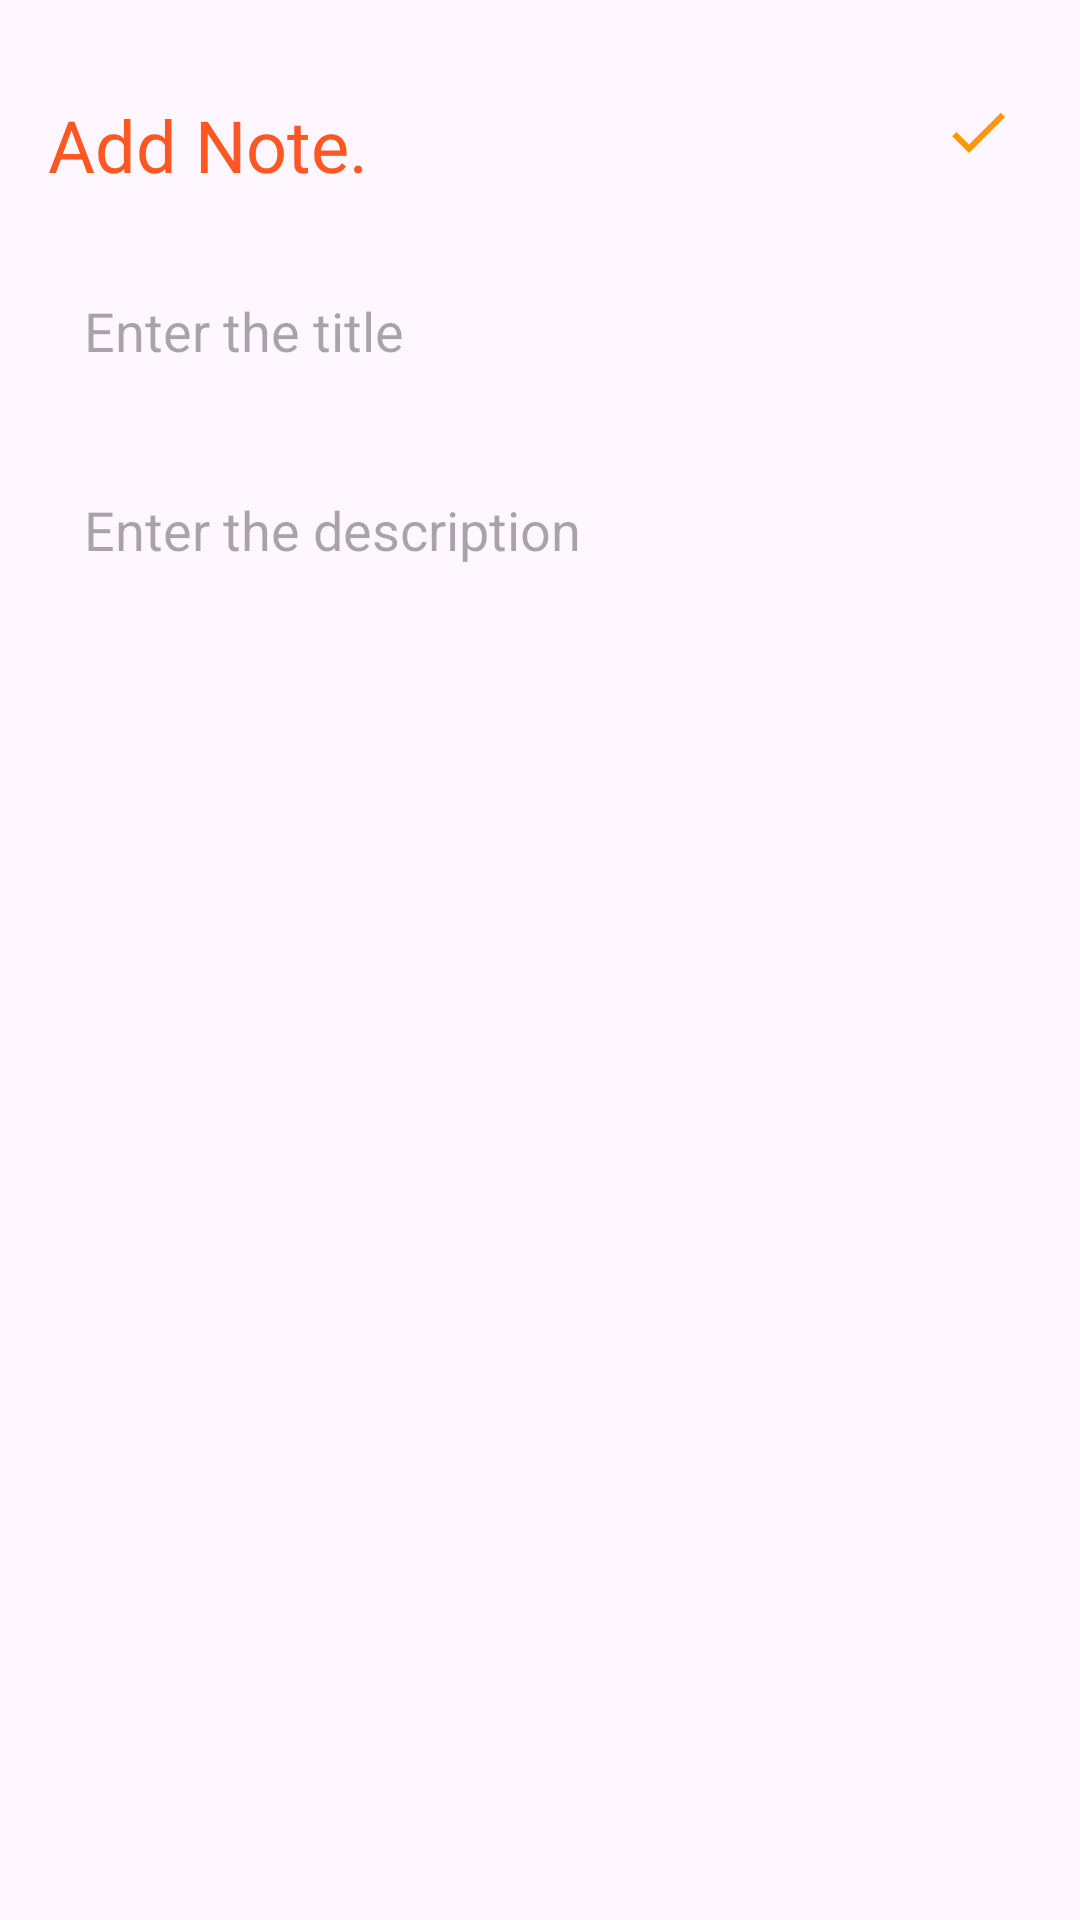

Icons on this 1080w x 1920h Android screen, each with its box as box(x1, y1, x2, y2):
done: box(952, 113, 1005, 153)
